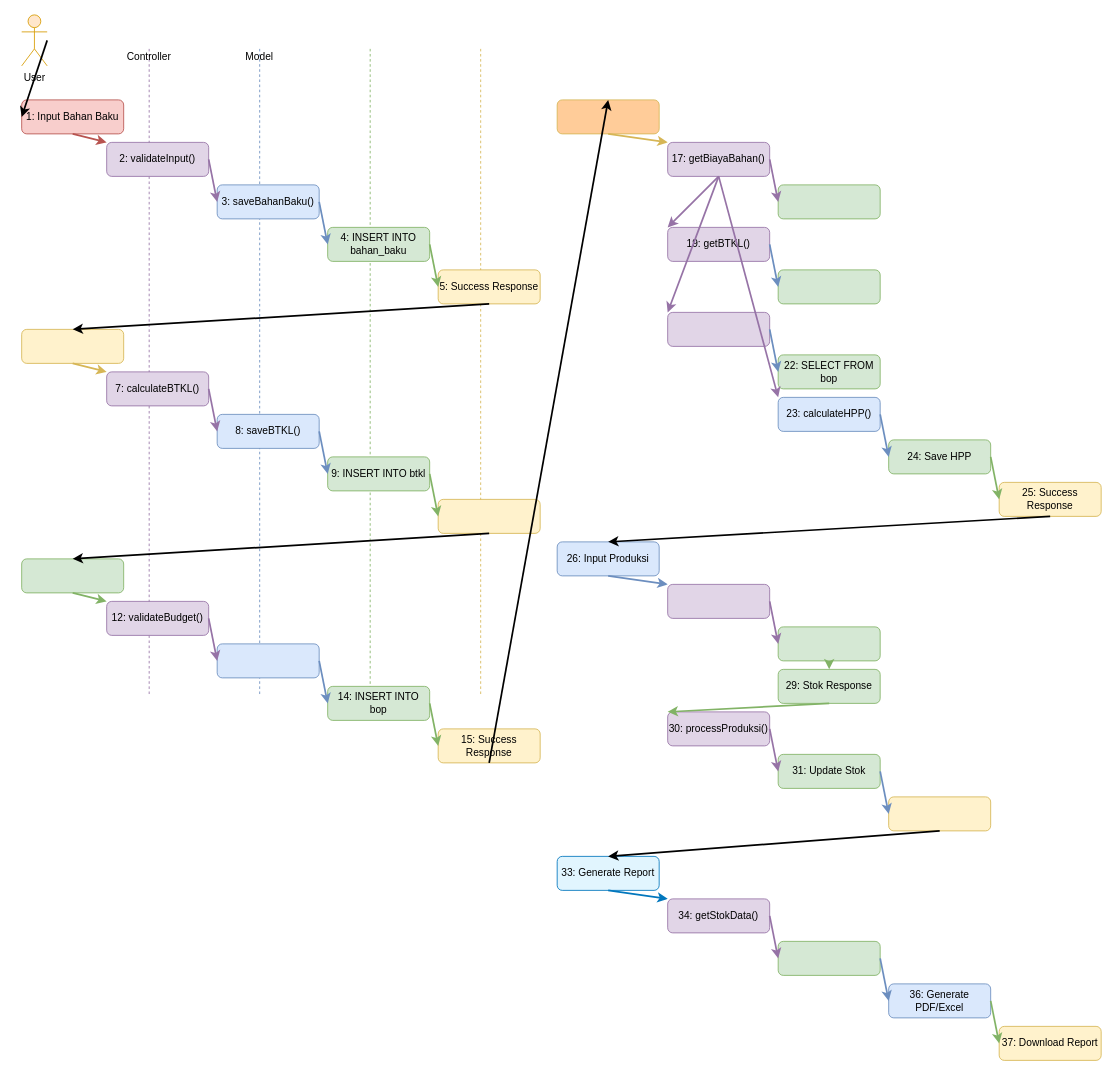
The diagram is 1116 pixels wide and 1075 high, and some of its shapes have lost their labels. The box of each missing label's shape, as (x1, y1, x2, y2) in pixels:
10: Success Response: (437, 499, 540, 533)
11: Input BOP: (21, 558, 124, 593)
13: saveBOP(): (216, 643, 319, 678)
16: Calculate HPP: (556, 99, 659, 134)
18: SELECT FROM bahan_baku: (777, 184, 880, 219)
20: SELECT FROM btkl: (777, 269, 880, 304)
21: getBOP(): (667, 312, 770, 346)
27: validateStok(): (667, 584, 770, 618)
28: Check FIFO: (777, 626, 880, 661)
32: Success Response: (888, 796, 991, 831)
35: SELECT FROM stock: (777, 941, 880, 975)
6: Input BTKL: (21, 329, 124, 363)
Database: (327, 14, 413, 695)
View: (437, 14, 523, 695)
